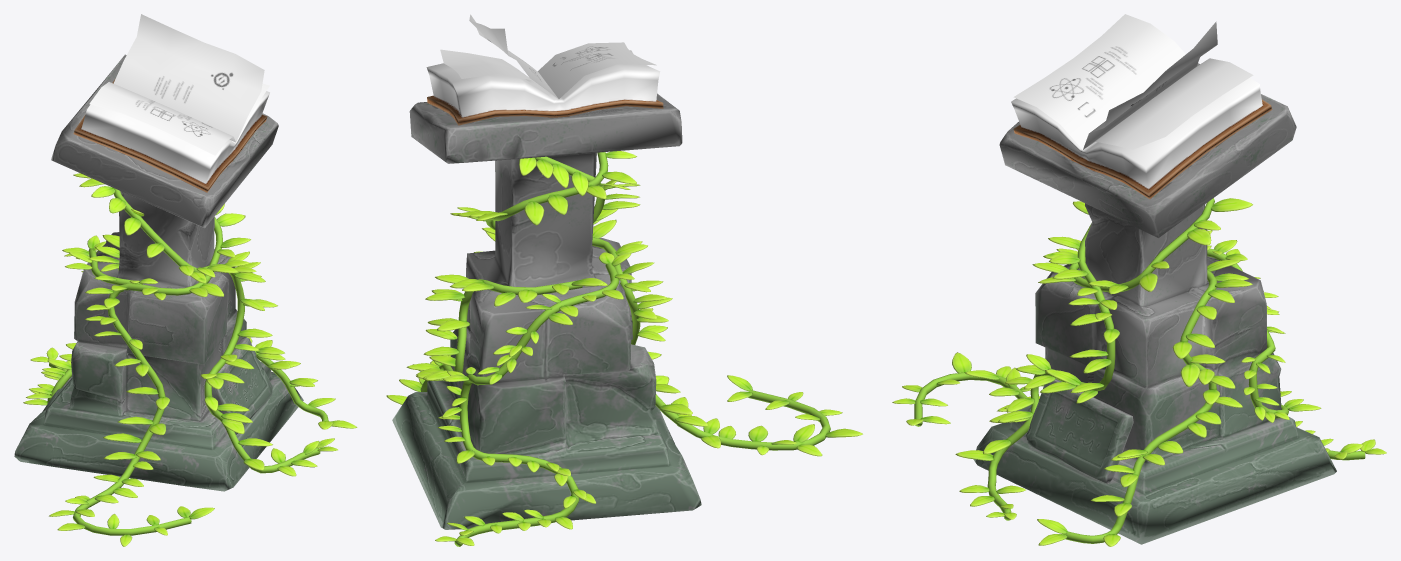
The model's file is pedestal.glb.
3 views of the same model, side by side, from view 1: azimuth 30°, elevation 25°; view 2: azimuth 150°, elevation 25°; view 3: azimuth 270°, elevation 25° (orthographic). The views are drawn at different scales.
Parts seen in each view (by area): view 1: polySurface7, polySurface10, pasted__pCube221, pasted__pCube222, pasted__pCylinder5, polySurface8, pasted__pCylinder4, polySurface6, pasted__pCube223, pasted__pCylinder3, pasted__pCylinder2; view 2: polySurface7, polySurface10, pasted__pCube221, polySurface6, pasted__pCylinder5, pasted__pCube223, pasted__pCylinder2, pasted__pCube222, pasted__pCylinder3; view 3: polySurface7, polySurface10, polySurface8, pasted__pCube222, pasted__pCube223, pasted__pCube221, polySurface6, pasted__pCylinder3, pasted__pCylinder4, pasted__pCylinder5, pasted__pCylinder2.
Part boxes in pixels (<box>): polySurface7: <box>14,54,303,491</box>; polySurface10: <box>73,14,269,192</box>; pasted__pCube221: <box>49,173,250,546</box>; pasted__pCube222: <box>91,186,337,476</box>; pasted__pCylinder5: <box>73,217,222,535</box>; polySurface8: <box>204,337,272,434</box>; pasted__pCylinder4: <box>113,188,320,473</box>; polySurface6: <box>23,235,157,405</box>; pasted__pCube223: <box>88,234,357,429</box>; pasted__pCylinder3: <box>117,268,328,421</box>; pasted__pCylinder2: <box>47,248,142,403</box>; polySurface7: <box>392,93,701,529</box>; polySurface10: <box>426,14,663,125</box>; pasted__pCube221: <box>450,151,862,456</box>; polySurface6: <box>435,252,634,545</box>; pasted__pCylinder5: <box>485,152,830,450</box>; pasted__pCube223: <box>386,274,607,404</box>; pasted__pCylinder2: <box>454,262,619,546</box>; pasted__pCube222: <box>474,157,640,252</box>; pasted__pCylinder3: <box>420,279,582,391</box>; polySurface7: <box>973,63,1336,544</box>; polySurface10: <box>1011,14,1272,199</box>; polySurface8: <box>1026,379,1133,483</box>; pasted__pCube222: <box>955,201,1119,519</box>; pasted__pCube223: <box>1037,245,1252,546</box>; pasted__pCube221: <box>892,198,1252,425</box>; polySurface6: <box>1207,230,1386,459</box>; pasted__pCylinder3: <box>1063,269,1217,543</box>; pasted__pCylinder4: <box>987,223,1115,520</box>; pasted__pCylinder5: <box>914,198,1214,426</box>; pasted__pCylinder2: <box>1207,248,1365,460</box>.
Bounding box in the file's own units: 0.0387 × 0.0423 × 0.042.
1 material, 1 textured.
